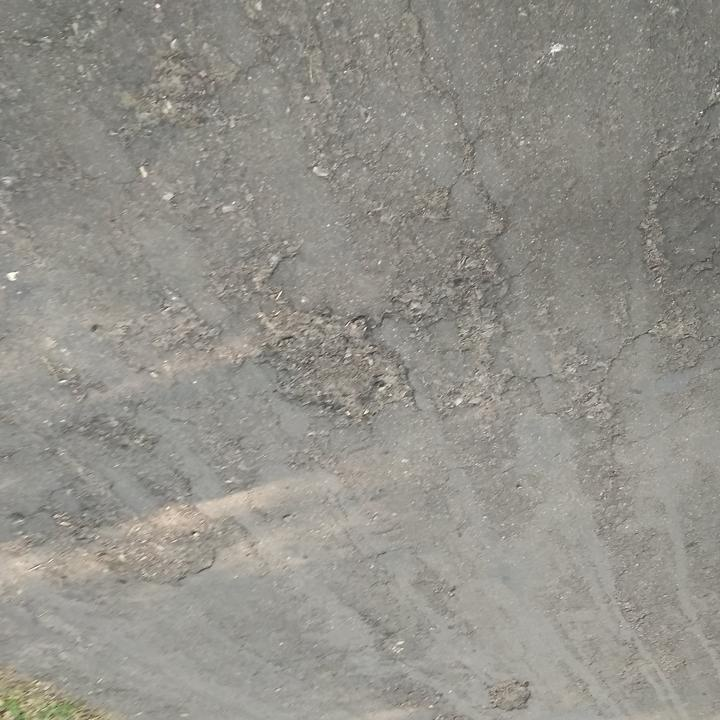pothole: (248, 304, 402, 424), (94, 529, 219, 589), (480, 676, 535, 716)
